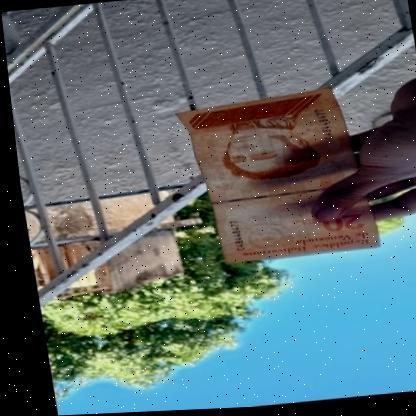twenty-front-vef: (168, 87, 375, 268)
